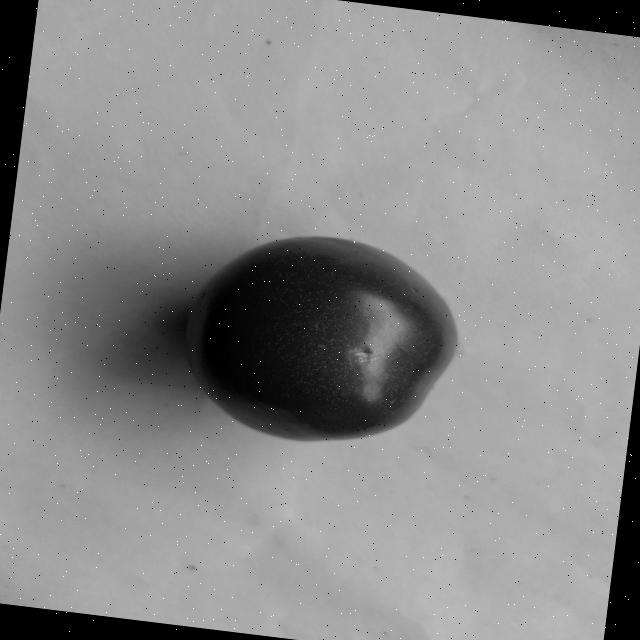Ripe: (168, 216, 471, 464)
